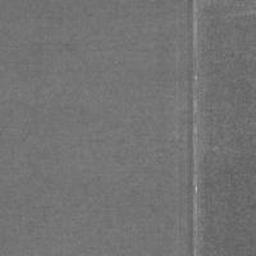Welding line: (184, 0, 197, 256)
